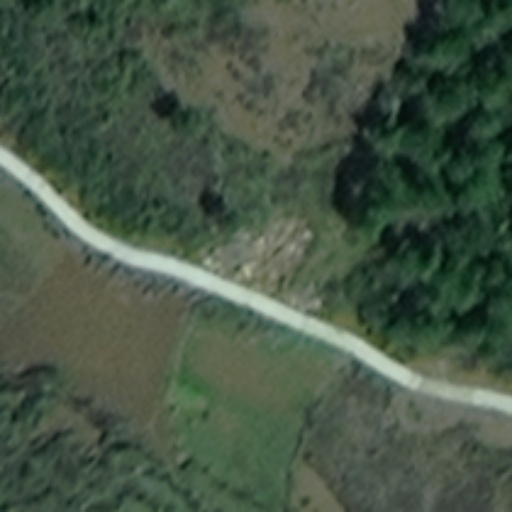landslide: (200, 207, 328, 315)
